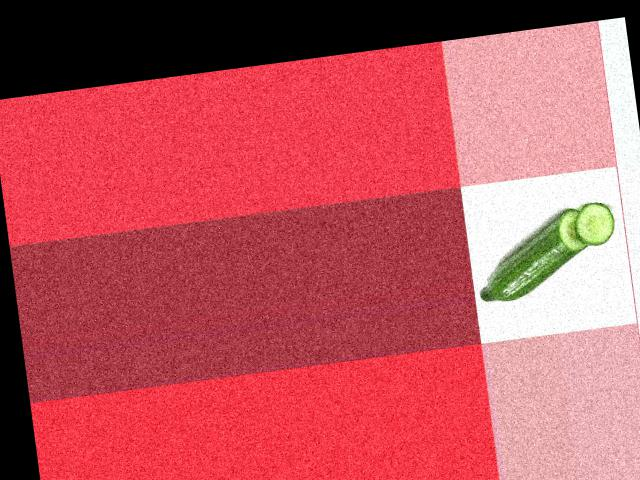cucumber: (471, 206, 596, 303)
